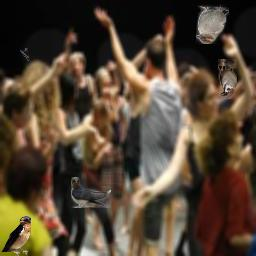Crow: (20, 48, 30, 61)
Sparrow: (196, 4, 229, 44), (218, 59, 237, 99)
Swallow: (71, 177, 111, 208), (1, 216, 31, 256)
